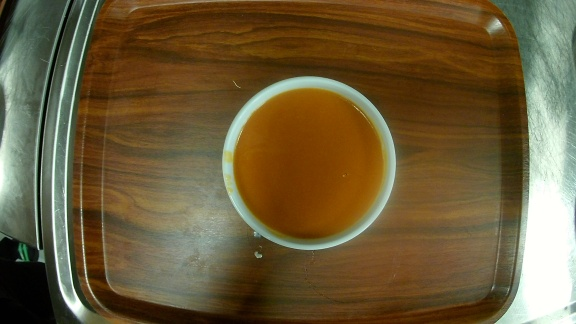domatescorba: (218, 75, 398, 252)
